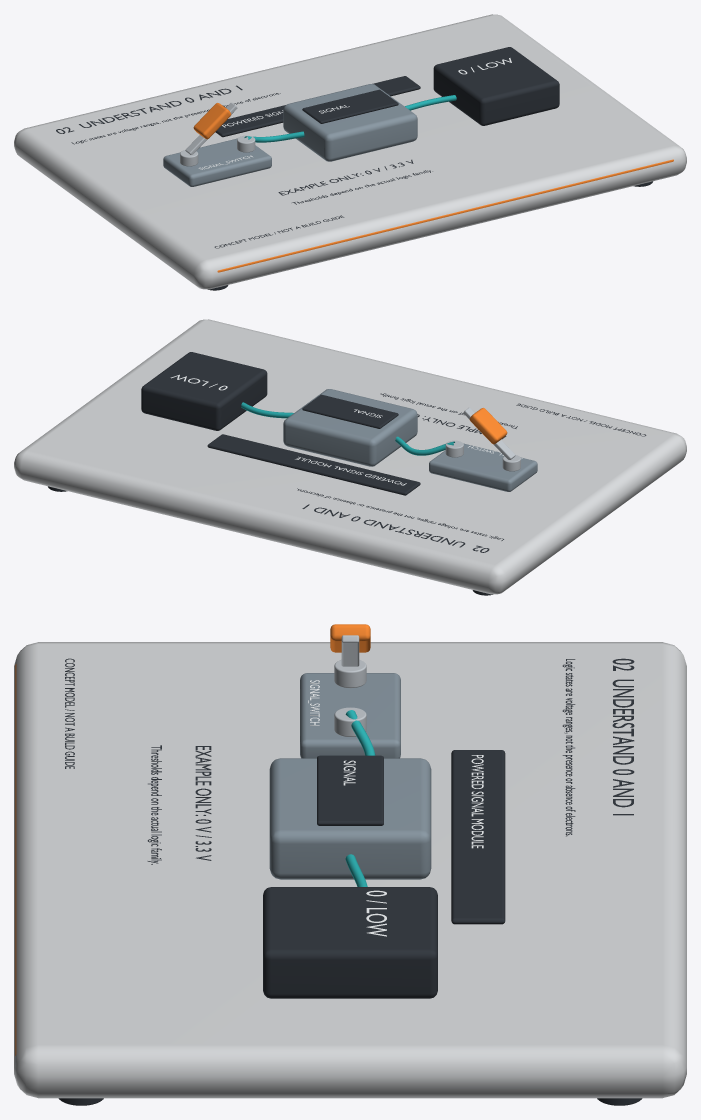
The model's file is circuit_02_binary_signal.glb.
3 views of the same model, one above another, from view 1: azimuth 30°, elevation 25°; view 2: azimuth 150°, elevation 25°; view 3: azimuth 270°, elevation 25° (orthographic). The views are drawn at different scales.
Visible parts, largest first — view 1: bench.001, signal_display, signal_source, signal_switch_base, logic_power_panel, signal_module_panel, orange_edge.001, signal_switch_handle, title.001; view 2: bench.001, signal_display, signal_source, logic_power_panel, signal_switch_base, signal_module_panel, signal_switch_handle, title.001; view 3: bench.001, signal_display, signal_source, logic_power_panel, signal_switch_base, signal_module_panel, title.001, subtitle.001, signal_switch_handle, example_levels, orange_edge.001, signal_switch_terminal (+2 smaller).
Part boxes in pixels (x1=…): bench.001: x1=14, y1=14, x2=686, y2=289; signal_display: x1=433, y1=47, x2=559, y2=125; signal_source: x1=283, y1=84, x2=417, y2=161; signal_switch_base: x1=163, y1=138, x2=271, y2=186; logic_power_panel: x1=215, y1=76, x2=420, y2=137; signal_module_panel: x1=302, y1=89, x2=398, y2=123; orange_edge.001: x1=217, y1=159, x2=673, y2=272; signal_switch_handle: x1=193, y1=103, x2=231, y2=139; title.001: x1=56, y1=85, x2=242, y2=133; bench.001: x1=14, y1=319, x2=686, y2=594; signal_display: x1=141, y1=352, x2=267, y2=430; signal_source: x1=283, y1=389, x2=417, y2=466; logic_power_panel: x1=207, y1=434, x2=420, y2=495; signal_switch_base: x1=429, y1=443, x2=537, y2=491; signal_module_panel: x1=302, y1=394, x2=398, y2=428; signal_switch_handle: x1=469, y1=408, x2=507, y2=444; title.001: x1=302, y1=504, x2=489, y2=552; bench.001: x1=14, y1=642, x2=686, y2=1098; signal_display: x1=263, y1=887, x2=437, y2=998; signal_source: x1=269, y1=758, x2=431, y2=879; logic_power_panel: x1=451, y1=750, x2=505, y2=924; signal_switch_base: x1=300, y1=673, x2=400, y2=758; signal_module_panel: x1=317, y1=755, x2=383, y2=825; title.001: x1=612, y1=658, x2=634, y2=815; subtitle.001: x1=562, y1=659, x2=575, y2=836; signal_switch_handle: x1=330, y1=624, x2=370, y2=652; example_levels: x1=195, y1=746, x2=211, y2=860; orange_edge.001: x1=15, y1=664, x2=16, y2=1055; signal_switch_terminal: x1=334, y1=660, x2=366, y2=688.
Size of what is drawn, in the model's own units: 7.4 by 1.47 by 5.
